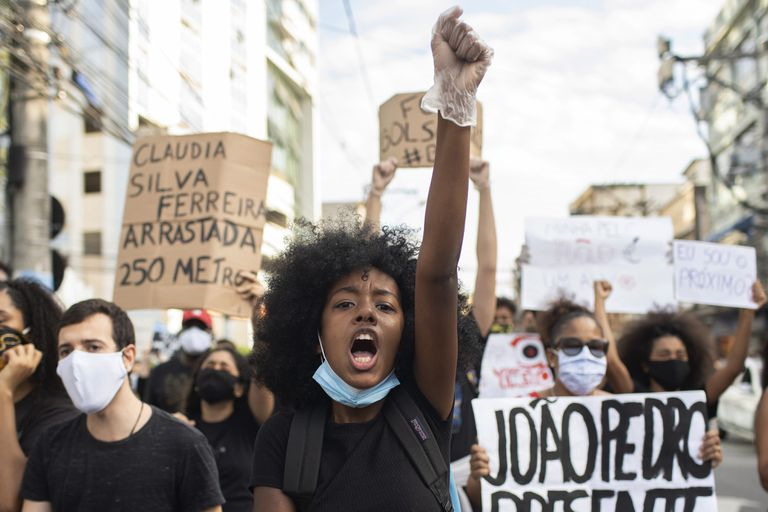mask_weared_incorrect: (306, 249, 410, 413)
with_mask: (57, 310, 137, 416), (540, 310, 610, 399)
